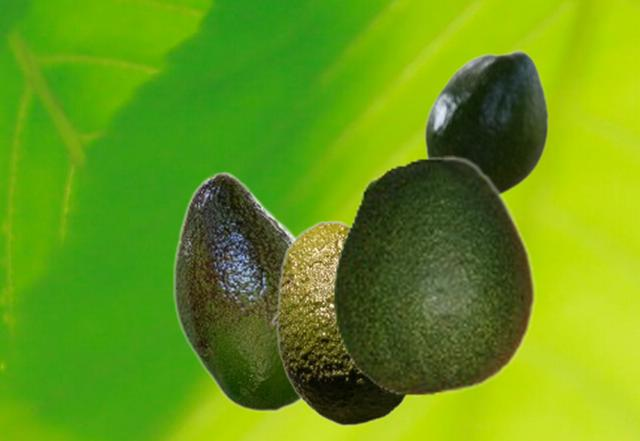avocado: (332, 155, 535, 395), (173, 171, 301, 411), (270, 220, 410, 425), (423, 49, 548, 196)
